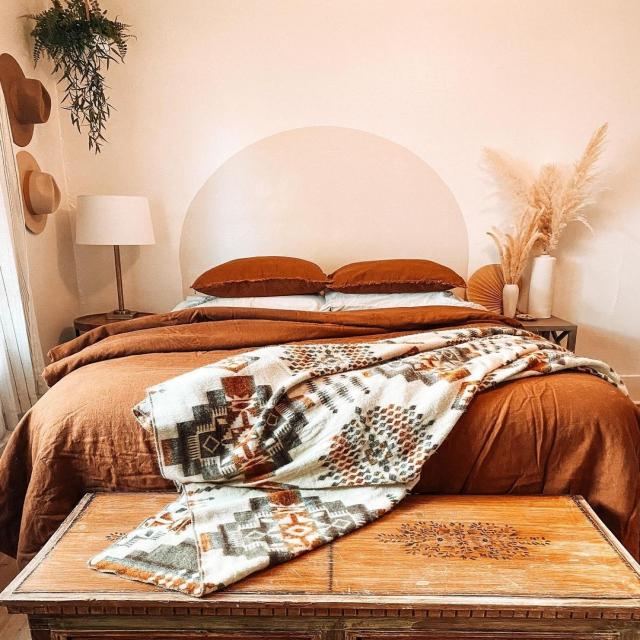bed: (51, 238, 597, 506)
